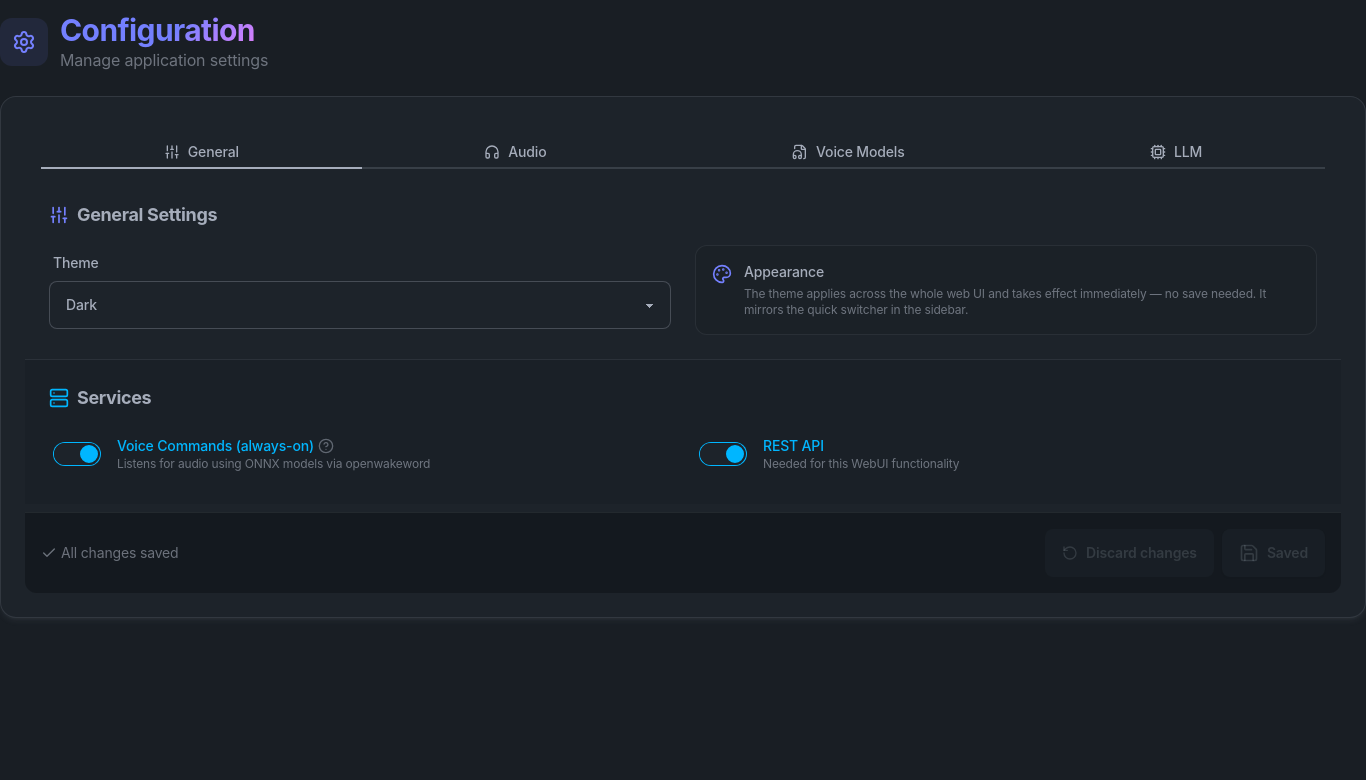
Test: ConfigurationPage audio device tests › mic test surfaces permission errors instead of pretending success
What coordinates should you click on to do the following:
click the tab "Audio"
I would click on:
 (515, 153)
Its box is [362,137,669,169].
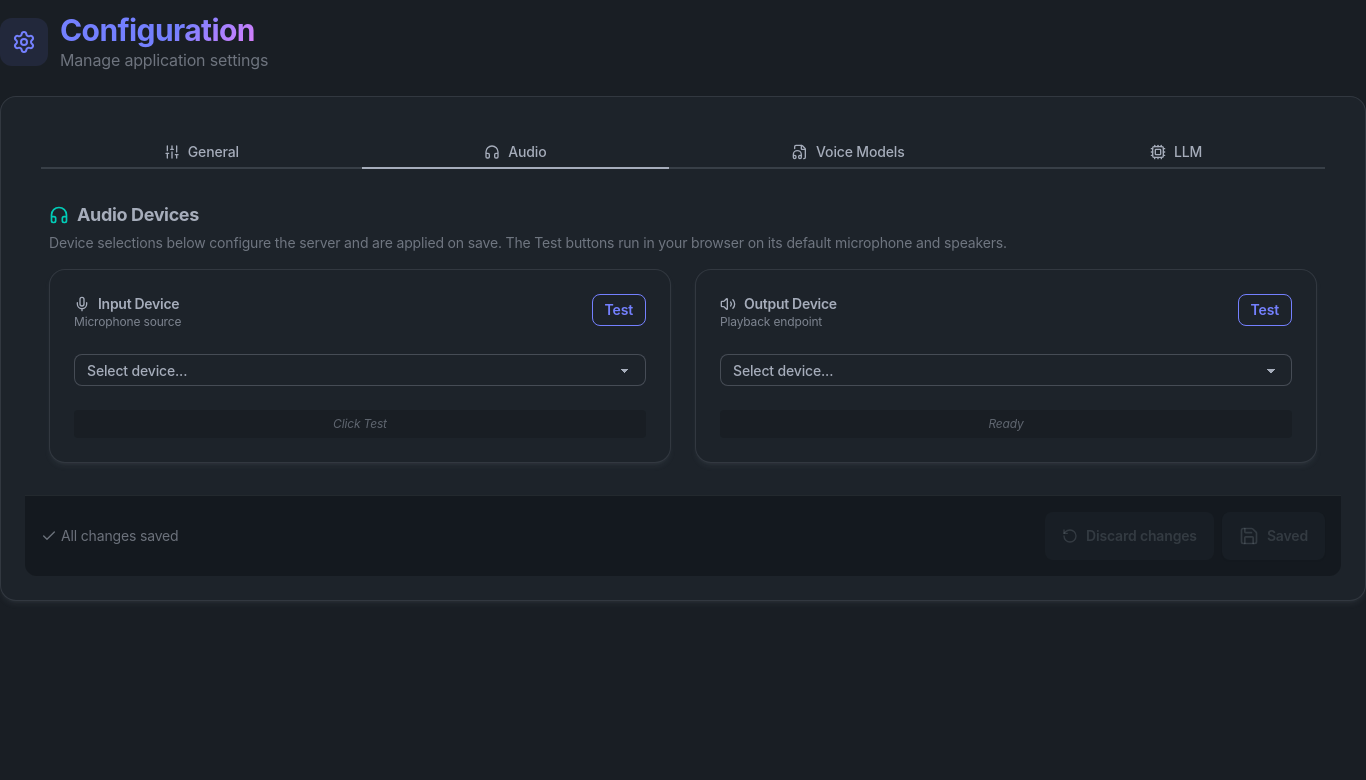
What coordinates should you click on to do the following:
click the button with test id "mic-test-button"
I would click on:
 (619, 310)
Its box is [592,294,646,326].
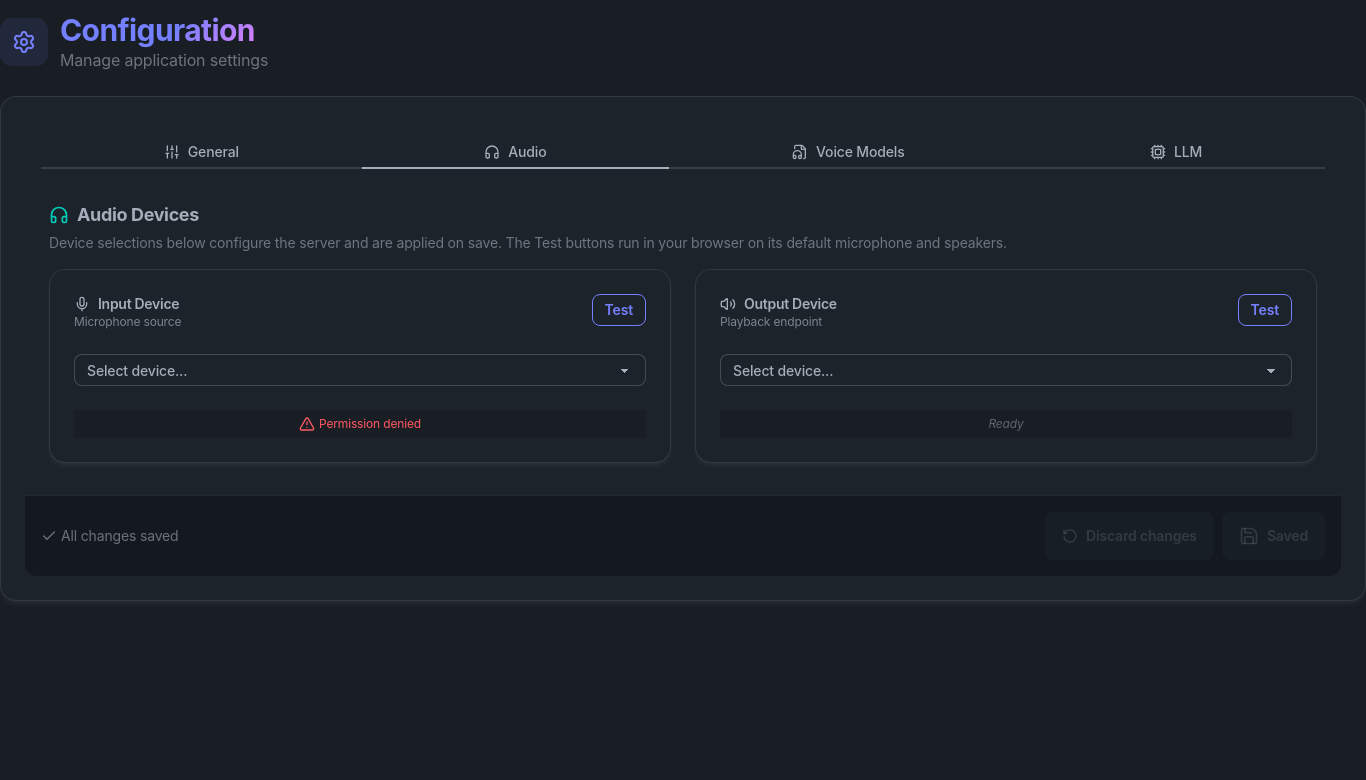
Check: the button with test id "mic-test-button" is enabled, box [592,294,646,326]
Check: the element with test id "mic-test-result" reads "Permission denied", box [319,416,421,431]
